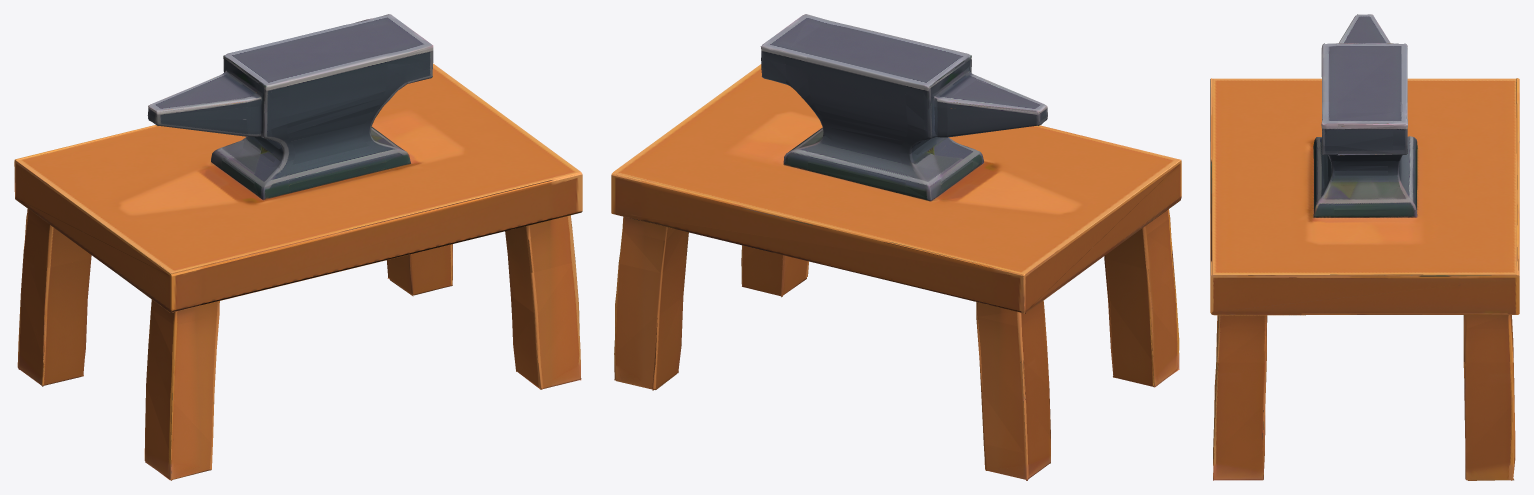
The model's file is armoryBench.glb.
3 views of the same model, side by side, from view 1: azimuth 30°, elevation 25°; view 2: azimuth 150°, elevation 25°; view 3: azimuth 270°, elevation 25° (orthographic).
Bounding box in the file's own units: 1 × 0.7383 × 0.6621.
1 material, 1 textured.
